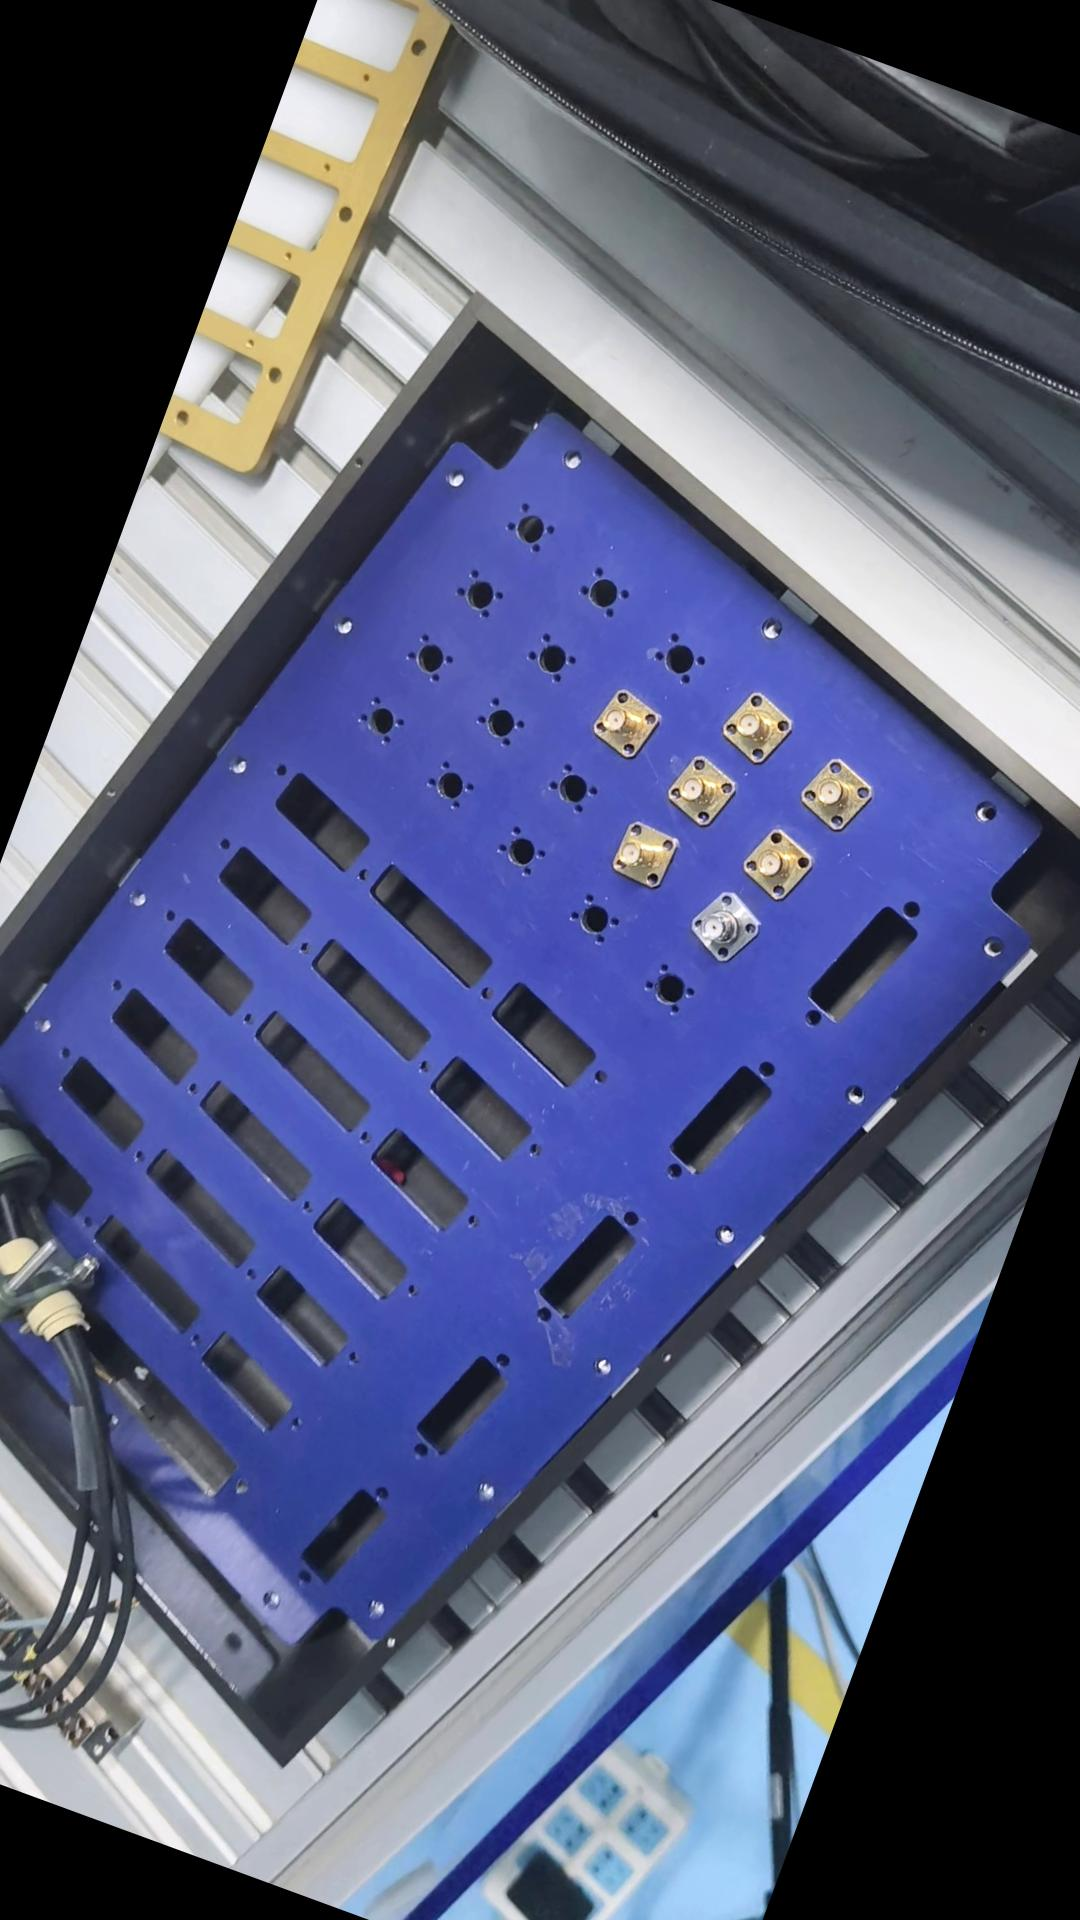SMA: (709, 678, 799, 773), (674, 876, 764, 967), (659, 745, 749, 829), (791, 752, 877, 835), (582, 680, 661, 765), (731, 825, 814, 905), (600, 818, 678, 891)
